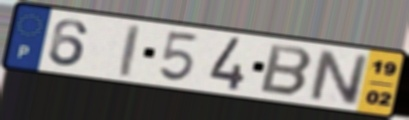4: (207, 35, 247, 93)
5: (157, 29, 201, 83)
6: (48, 18, 89, 68)
B: (257, 42, 315, 98)
I: (118, 22, 143, 79)
N: (308, 47, 370, 108)
